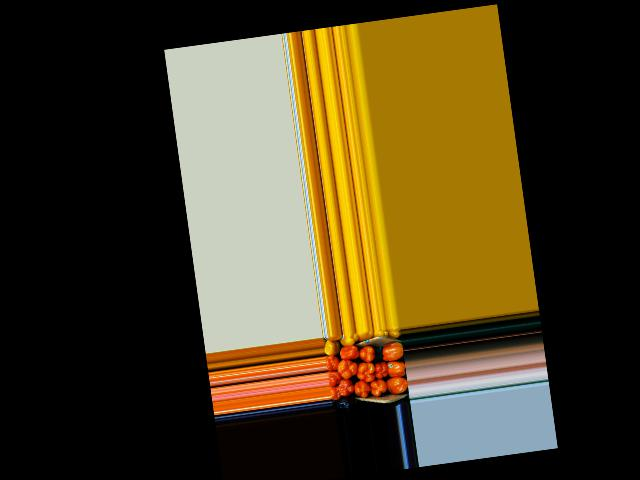bell_pepper: (338, 333, 361, 346)
